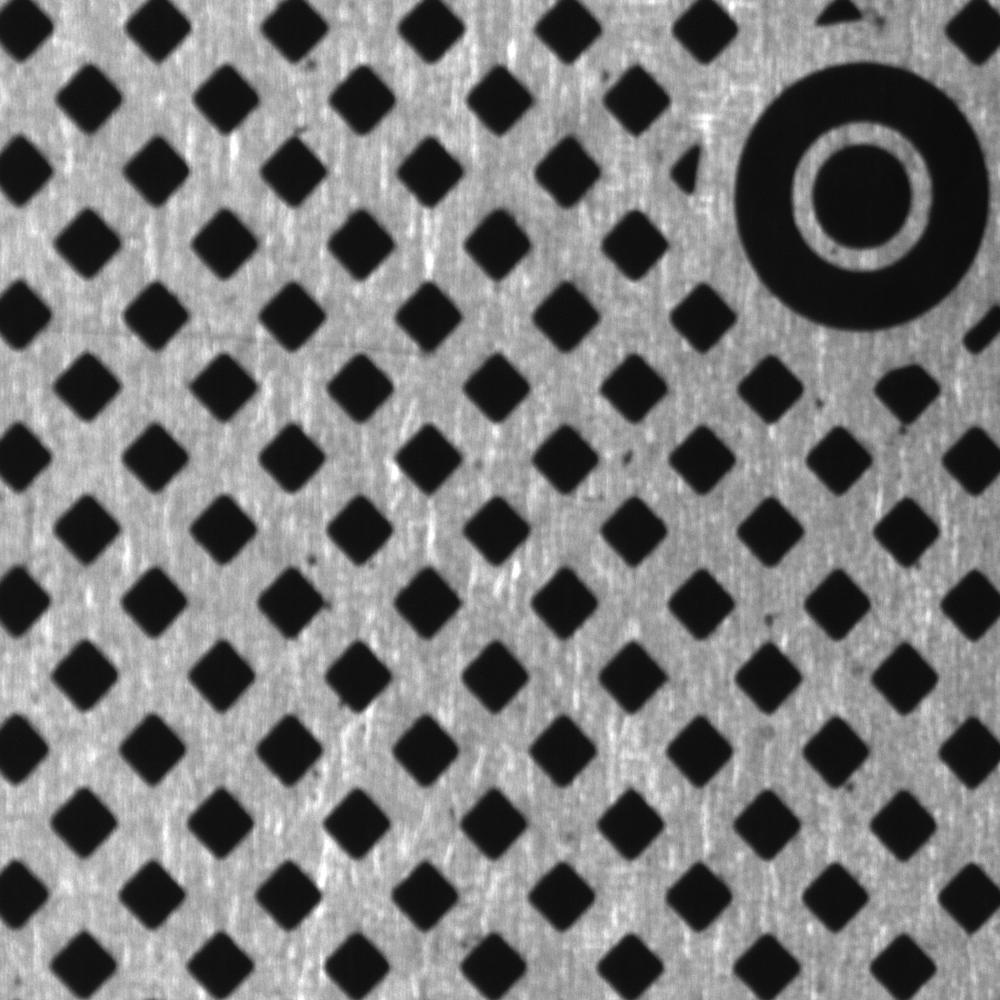Scar: (312, 329, 425, 362), (45, 315, 140, 350), (175, 321, 272, 352)
